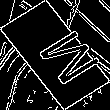M_SW: (17, 22, 93, 88)
